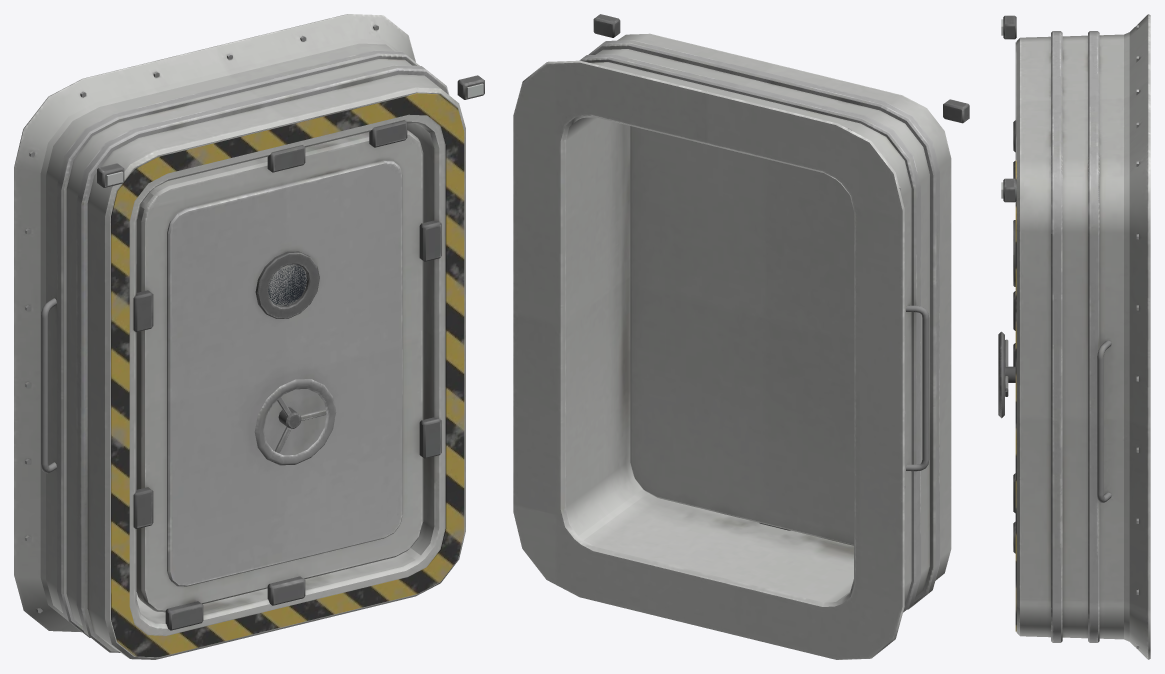
Rendered from airlock.glb.
3 views of the same model, side by side, from view 1: azimuth 30°, elevation 25°; view 2: azimuth 150°, elevation 25°; view 3: azimuth 270°, elevation 25° (orthographic). The views are drawn at different scales.
Visible parts, largest first — view 1: airlock; view 2: airlock; view 3: airlock.
Boxes of the visible parts, x1,y1,x2,y2 form: airlock: (14,14,484,659); airlock: (513,14,969,659); airlock: (998,14,1150,659).
Bounding box in the file's own units: 2.57 × 3.37 × 0.9101.
1 material, 1 textured.
